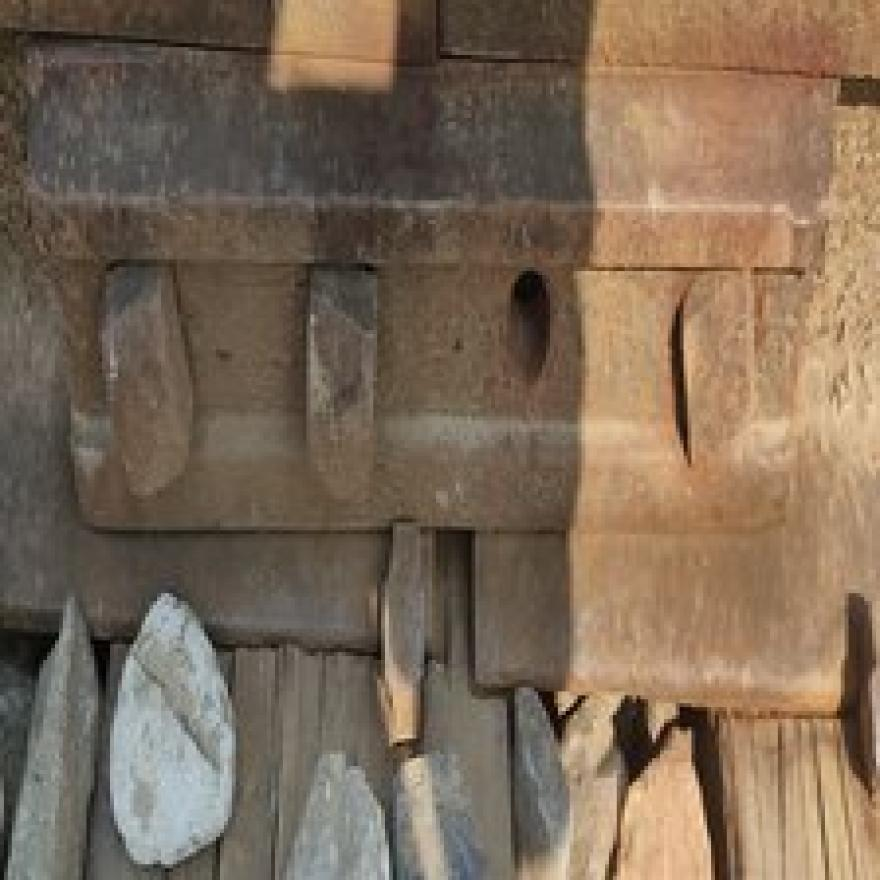railway-gap: (366, 505, 542, 694)
